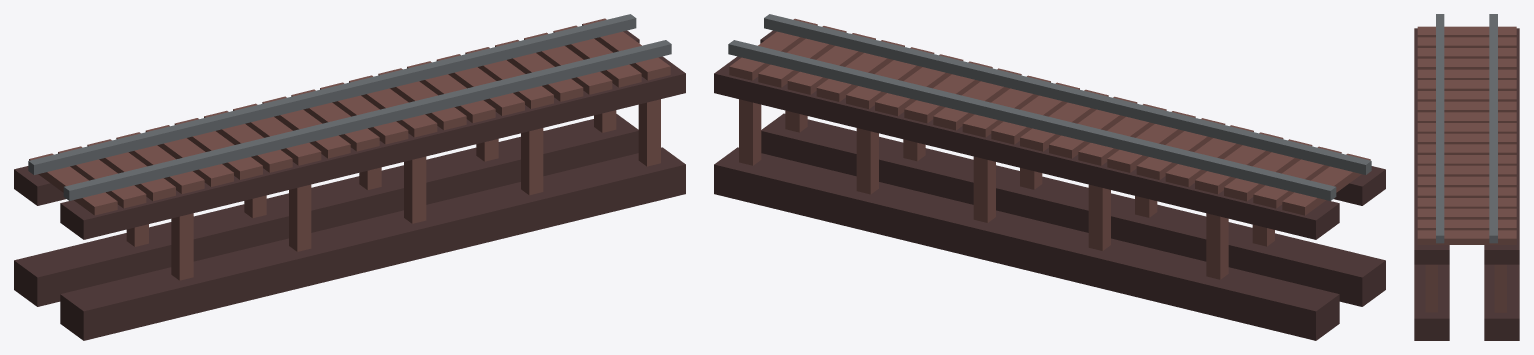
Rendered from DarkRoseWoodMechMedium0_85GaugeStraight1.fbx.
3 views of the same model, side by side, from view 1: azimuth 30°, elevation 25°; view 2: azimuth 150°, elevation 25°; view 3: azimuth 270°, elevation 25° (orthographic). The views are drawn at different scales.
Visible parts, largest first — view 1: DarkRoseWoodMechMedium0_85GaugeStraight1; view 2: DarkRoseWoodMechMedium0_85GaugeStraight1; view 3: DarkRoseWoodMechMedium0_85GaugeStraight1.
Part boxes in pixels (bbox=[...]): DarkRoseWoodMechMedium0_85GaugeStraight1: bbox=[14, 14, 685, 340]; DarkRoseWoodMechMedium0_85GaugeStraight1: bbox=[714, 14, 1385, 340]; DarkRoseWoodMechMedium0_85GaugeStraight1: bbox=[1414, 14, 1519, 340].
Bounding box in the file's own units: 998 × 221 × 200.
